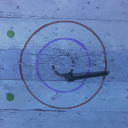Axe Tip: (62, 73, 72, 75)
